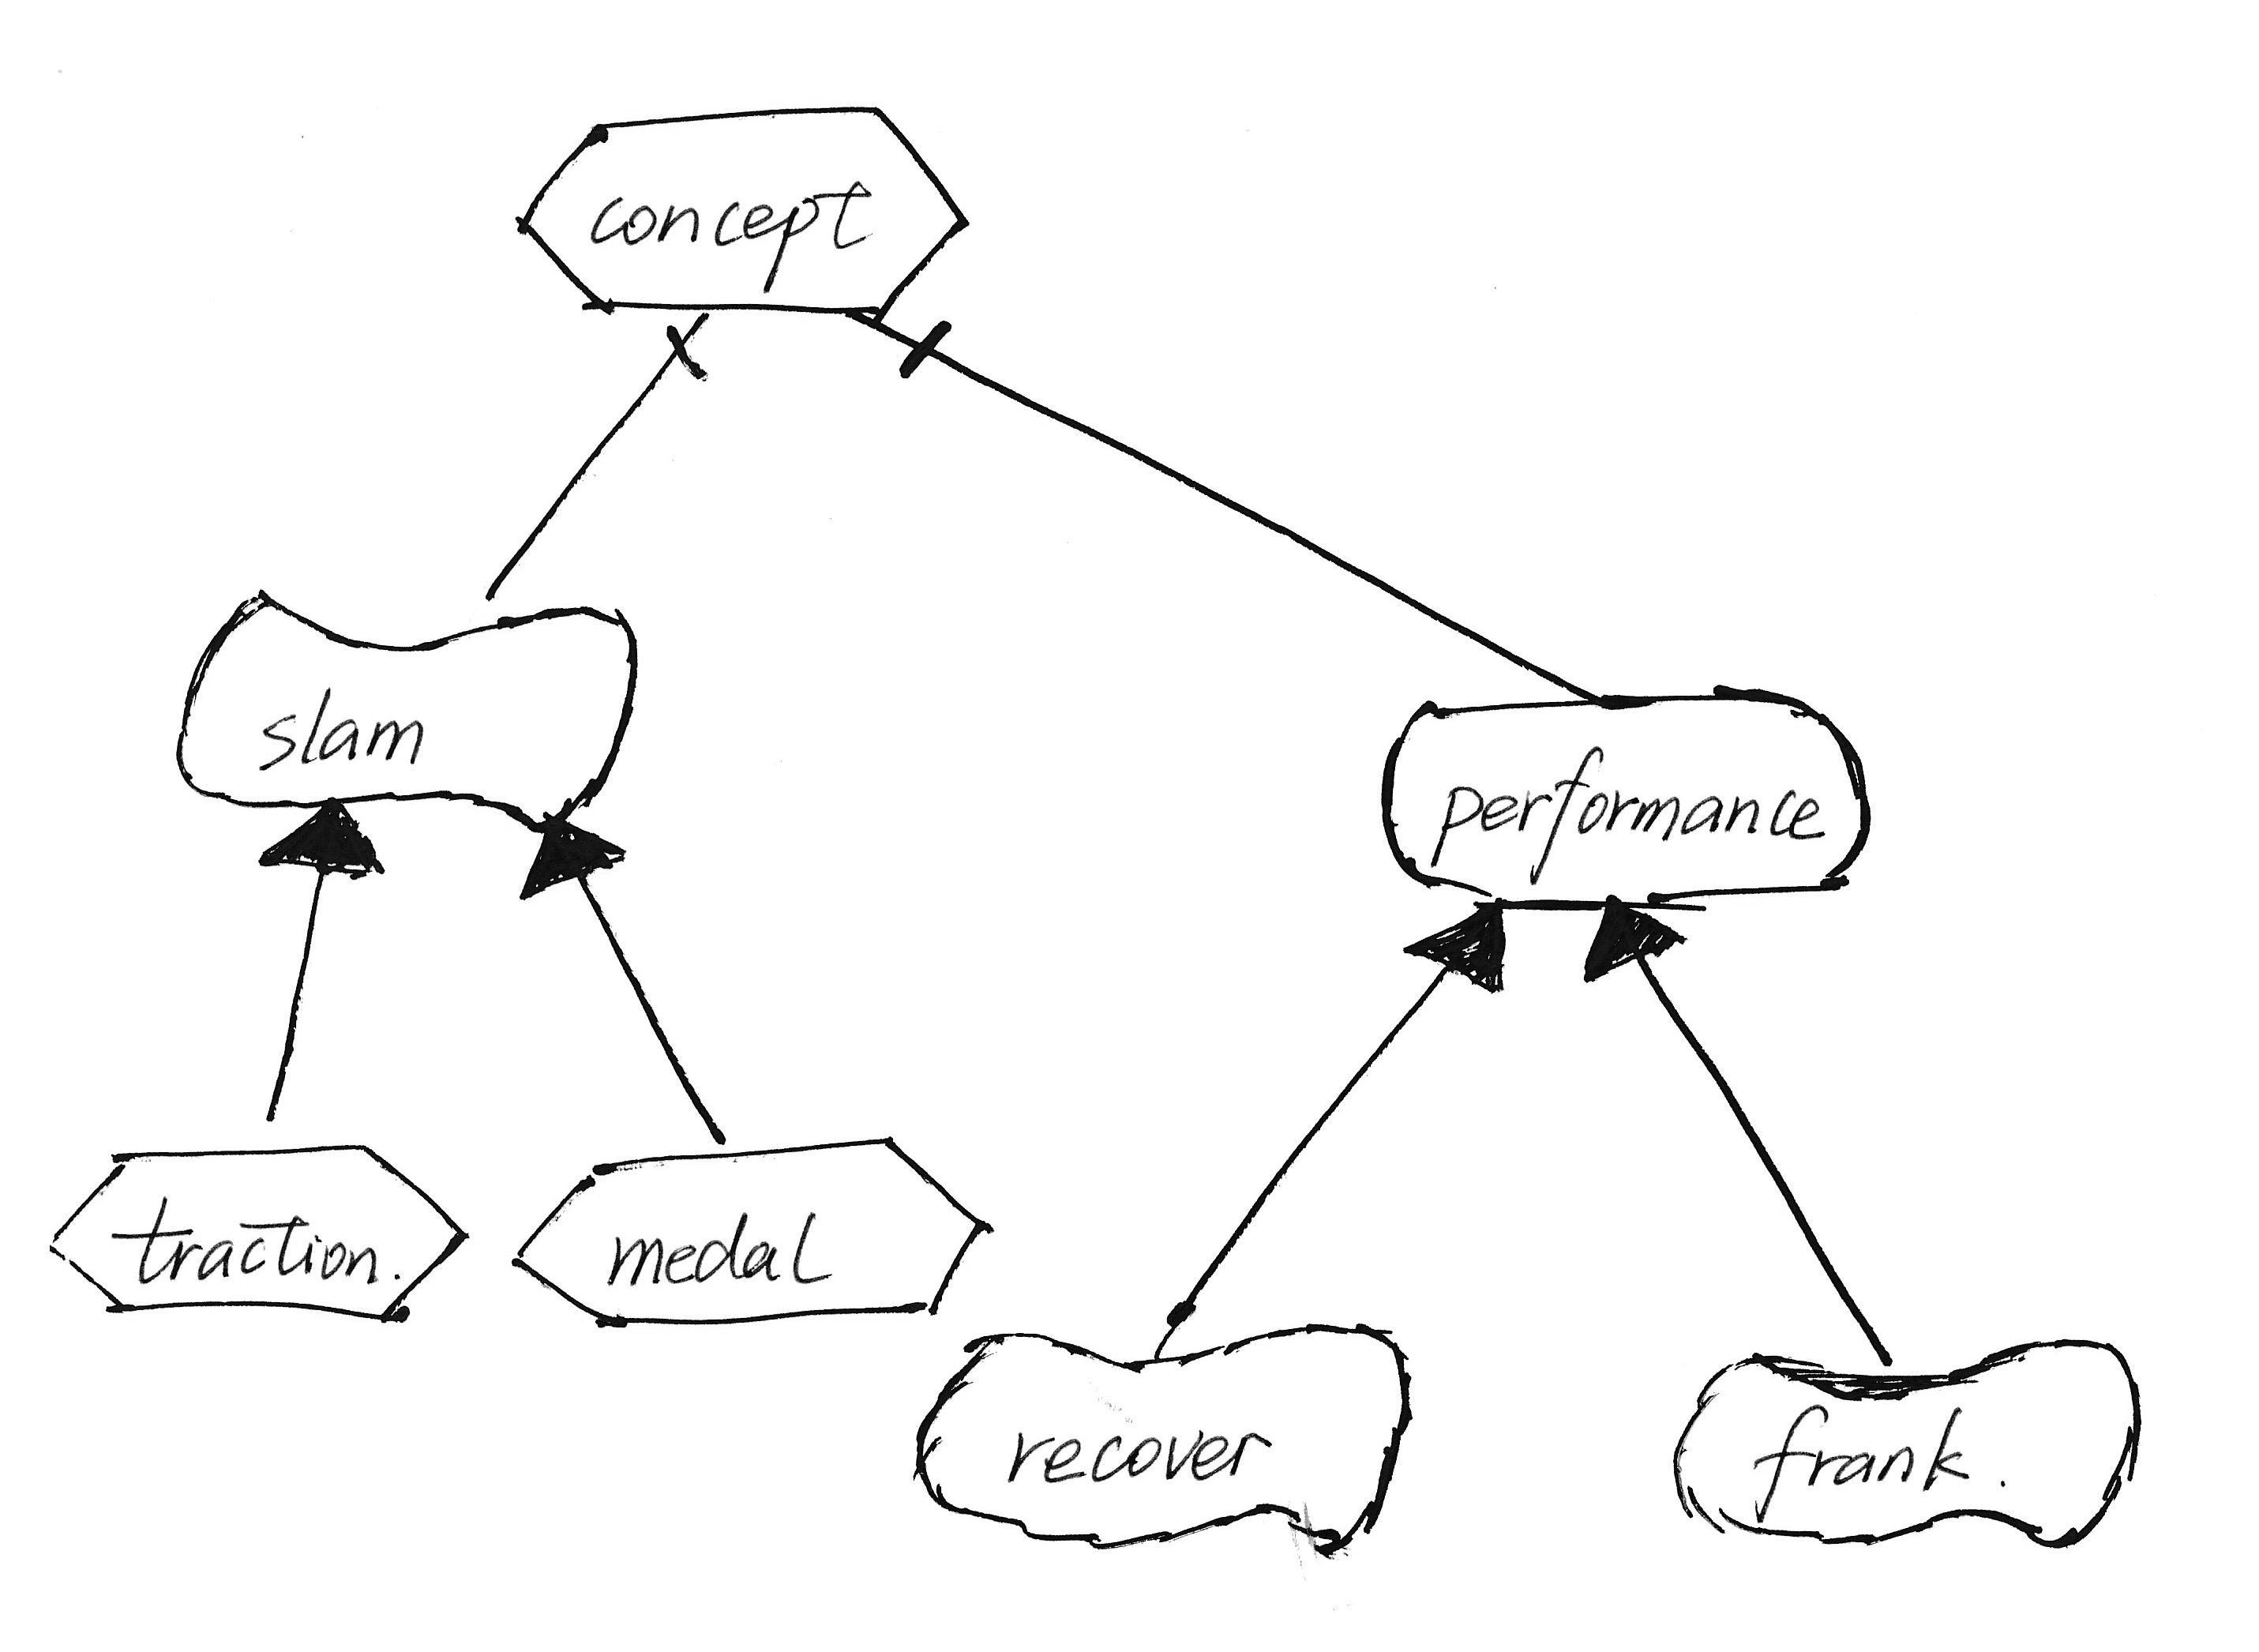and: (838, 293, 968, 384), (651, 302, 730, 393)
goal: (1368, 679, 1889, 921)
or: (1400, 886, 1524, 1007), (254, 789, 388, 887), (1575, 891, 1701, 994), (510, 808, 635, 905)
quality: (887, 1310, 1429, 1559), (156, 575, 651, 840), (1656, 1326, 2159, 1571)
task: (495, 88, 986, 337), (502, 1115, 998, 1338), (39, 1131, 489, 1336)
